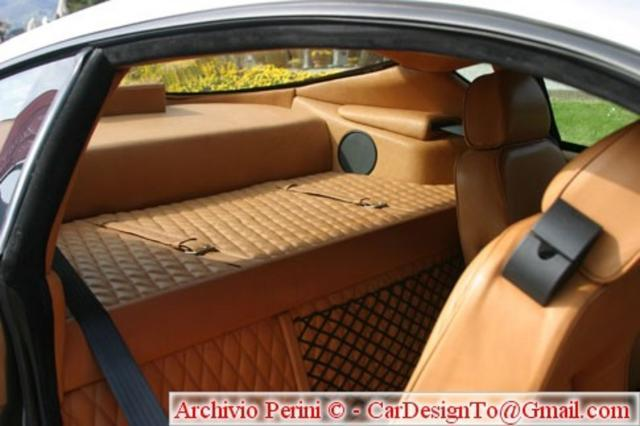Seatbelt: (52, 248, 168, 424)
